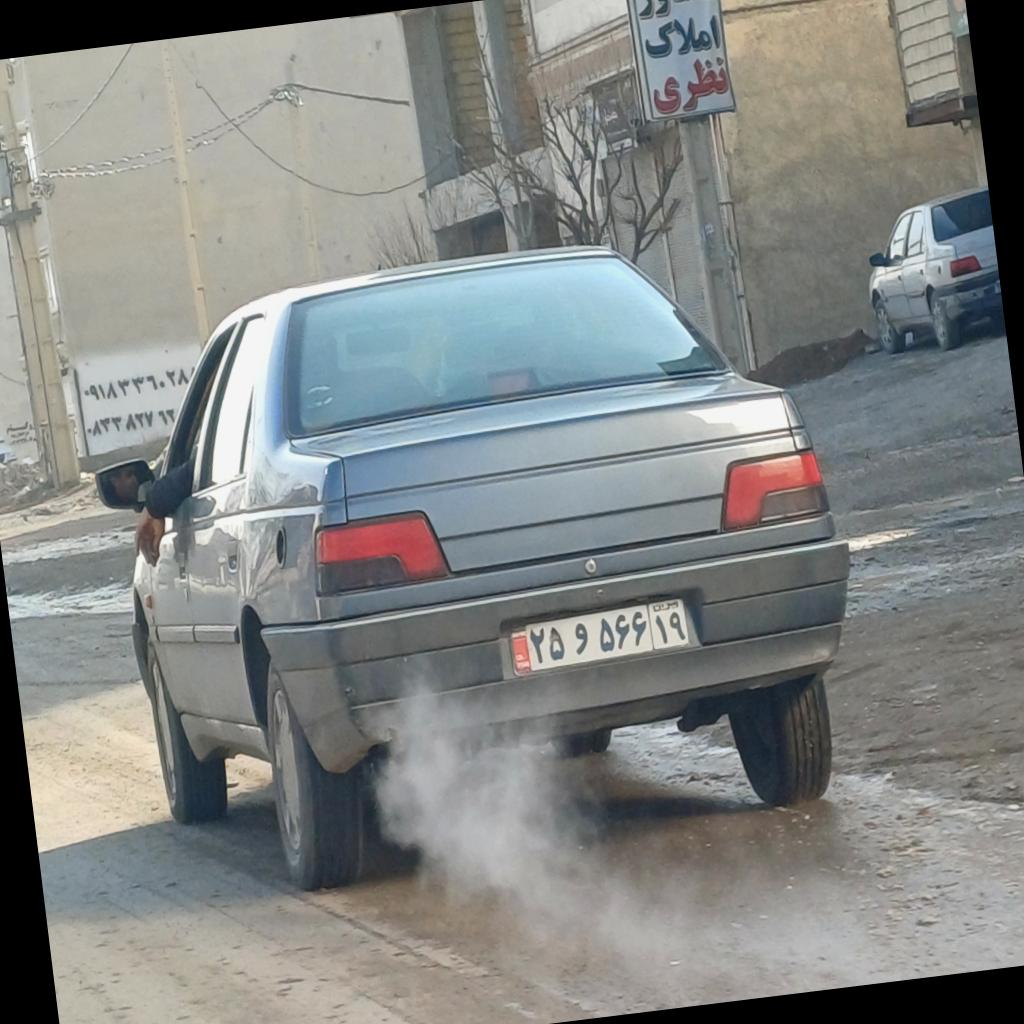Plates: (504, 594, 690, 676)
